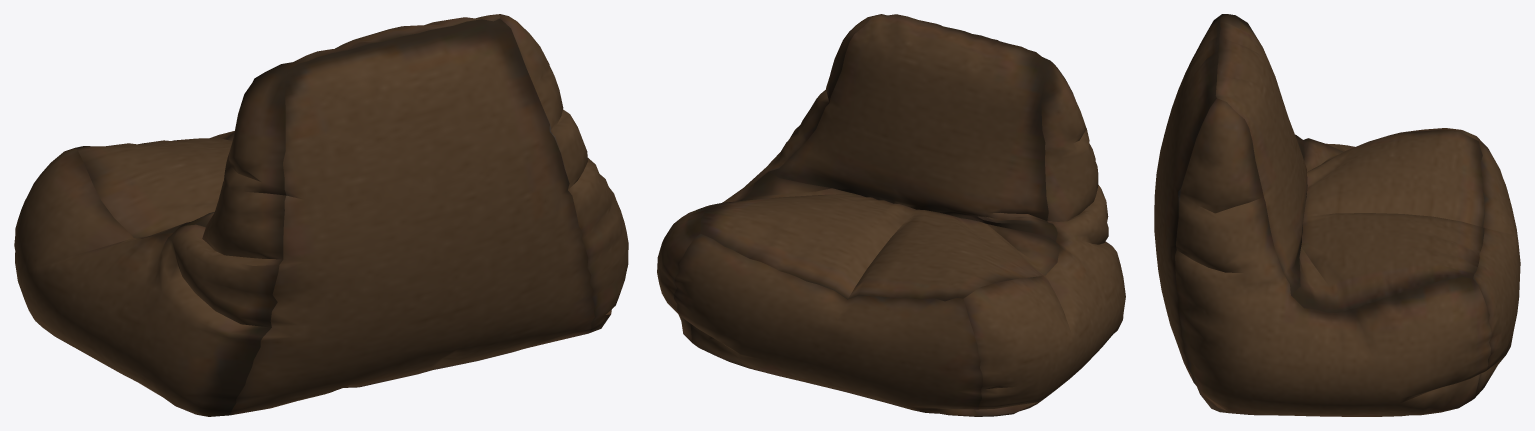
The model's file is beanbag.dae.
3 views of the same model, side by side, from view 1: azimuth 30°, elevation 25°; view 2: azimuth 150°, elevation 25°; view 3: azimuth 270°, elevation 25° (orthographic). The views are drawn at different scales.
Visible parts, largest first — view 1: Hackers_merged_out_001; view 2: Hackers_merged_out_001; view 3: Hackers_merged_out_001.
Part boxes in pixels (bbox=[...]): Hackers_merged_out_001: bbox=[14, 14, 628, 416]; Hackers_merged_out_001: bbox=[657, 14, 1125, 416]; Hackers_merged_out_001: bbox=[1154, 14, 1520, 416].
Bounding box in the file's own units: 2.9 × 2.14 × 1.78.
1 material, 1 textured.
